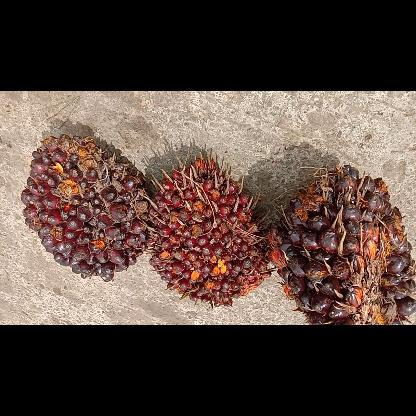Kurang masak: (20, 136, 148, 280), (150, 155, 270, 305)
TBS masak: (266, 162, 414, 324)
